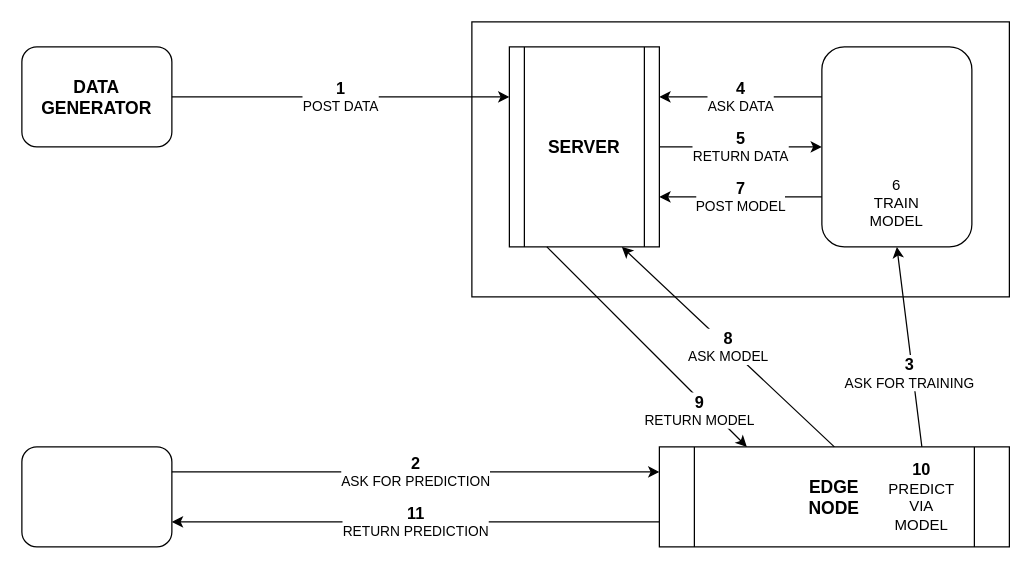
Image size: 1031x569. Some labels were removed from this diagram. The shapes that lost their labels are listed below. From the top down, each one's box as (x1, y1, x2, y2) in pixels, then its label:
(821, 46, 972, 247): TRAINING APP
(21, 446, 172, 547): USER
